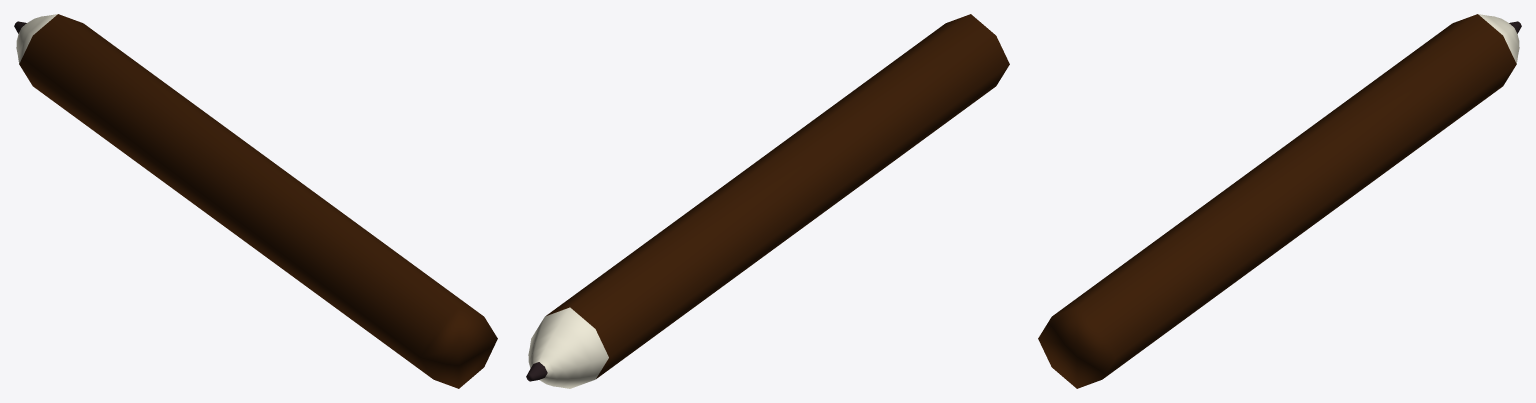
Rendered from Pencil.fbx.
3 views of the same model, side by side, from view 1: azimuth 30°, elevation 25°; view 2: azimuth 150°, elevation 25°; view 3: azimuth 330°, elevation 25° (orthographic).
Visible parts, largest first — view 1: Pencil (opt color); view 2: Pencil (opt color); view 3: Pencil (opt color).
Part boxes in pixels (x1,y1,x2,y2): Pencil (opt color): (14,14,497,388); Pencil (opt color): (526,14,1009,388); Pencil (opt color): (1038,14,1521,388).
Bounding box in the file's own units: 100 × 100 × 980.
